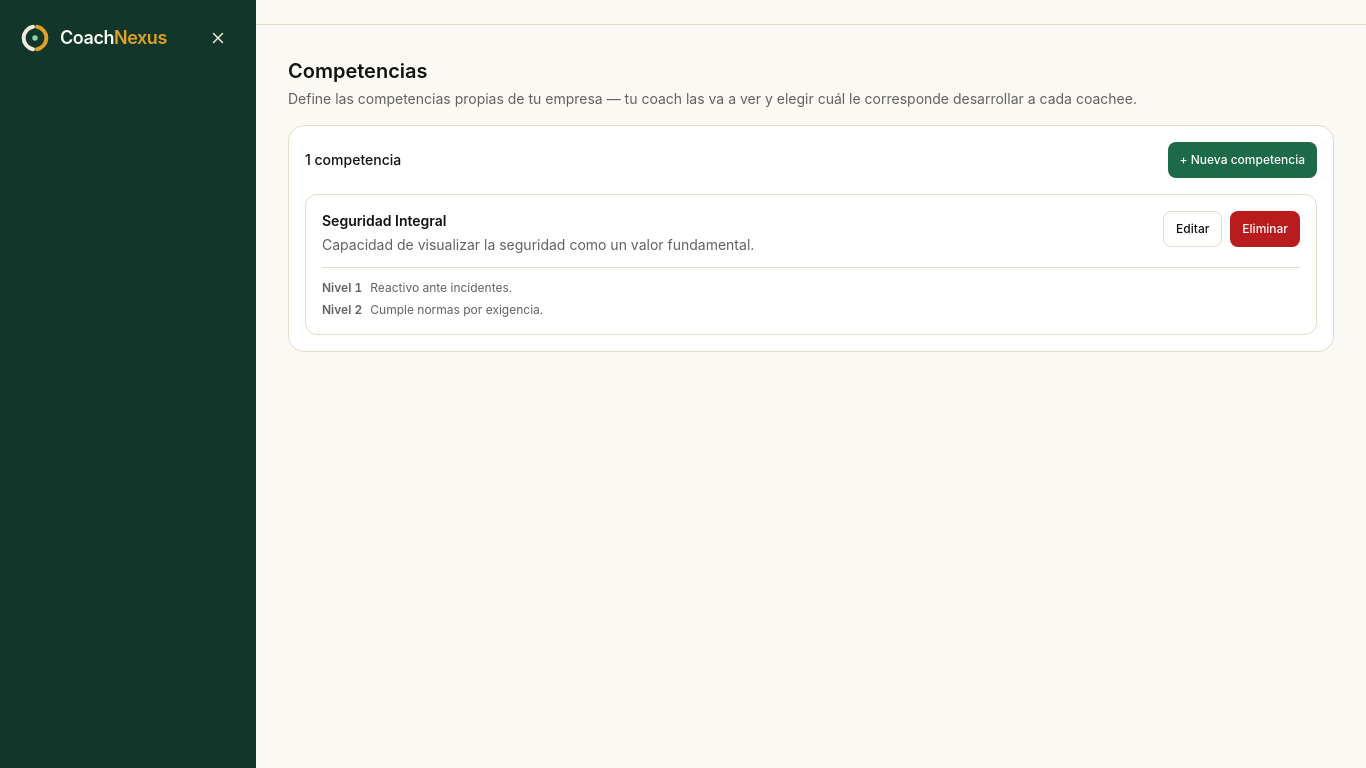
Scenario: CompetenciasView (empresa) › opens the modal pre-filled with 4 empty niveles when creating
This screenshot has width=1366, height=768.
Click the button "+ Nueva competencia".
click(1242, 160)  # box left=1168, top=142, right=1317, bottom=178
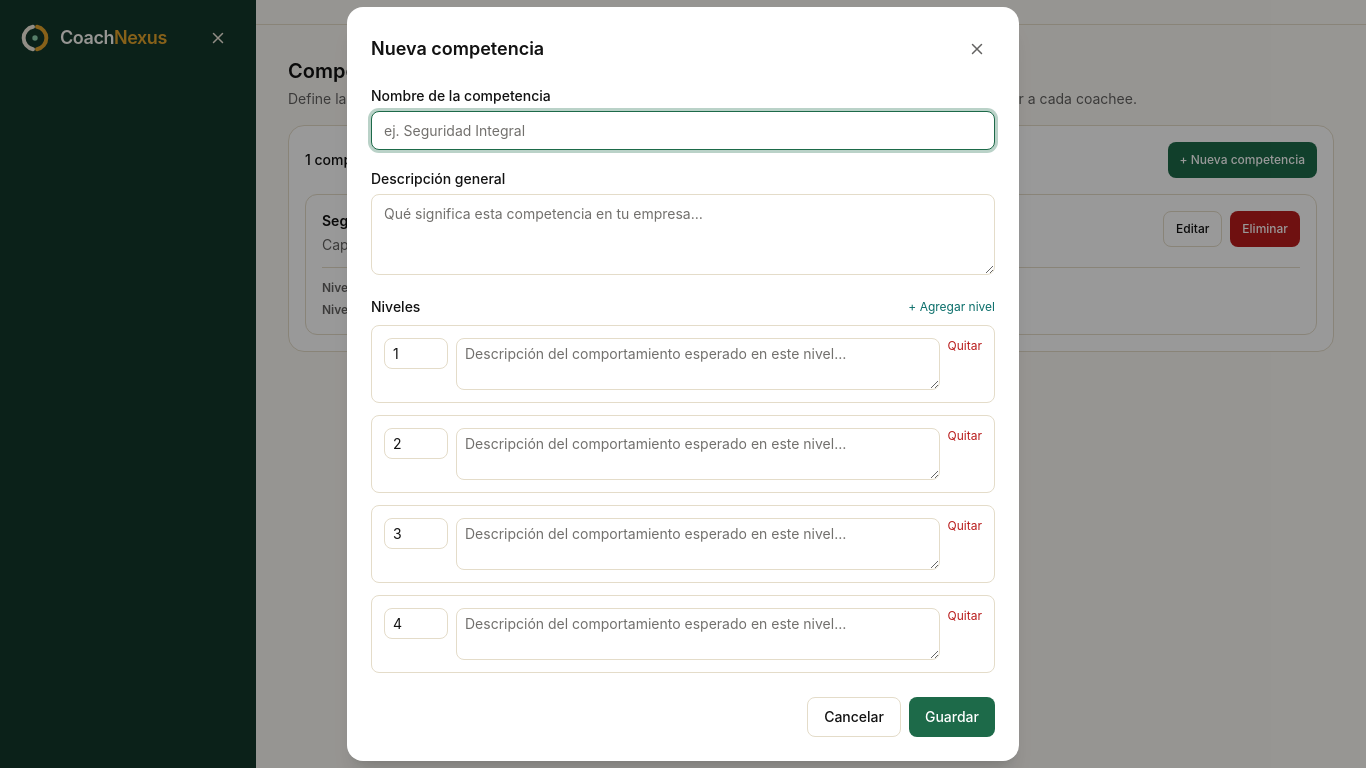
Check: the number of number fields is 4, box left=384, top=338, right=448, bottom=369; left=384, top=428, right=448, bottom=459; left=384, top=518, right=448, bottom=549; left=384, top=608, right=448, bottom=639
Check: the number field named "Número del nivel 1" holds "1", box left=384, top=338, right=448, bottom=369
Check: the number field named "Número del nivel 4" holds "4", box left=384, top=608, right=448, bottom=639
